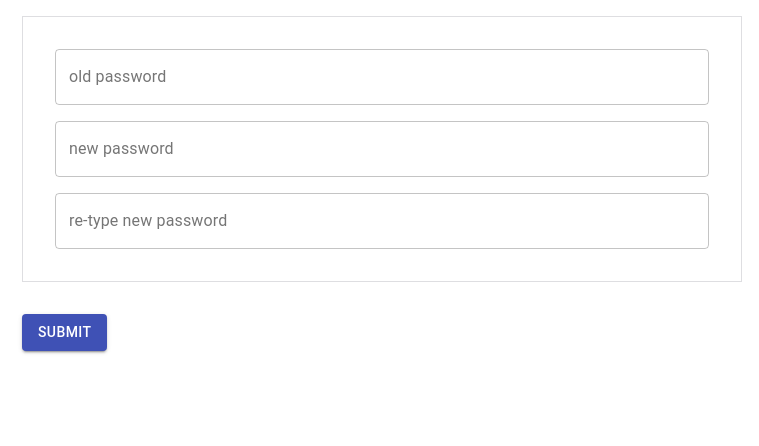
Test: Form › shows error message when old password is not correct
Type "12345" into the password field labelled "old password". click: (382, 77)
box: [55,49,709,105]
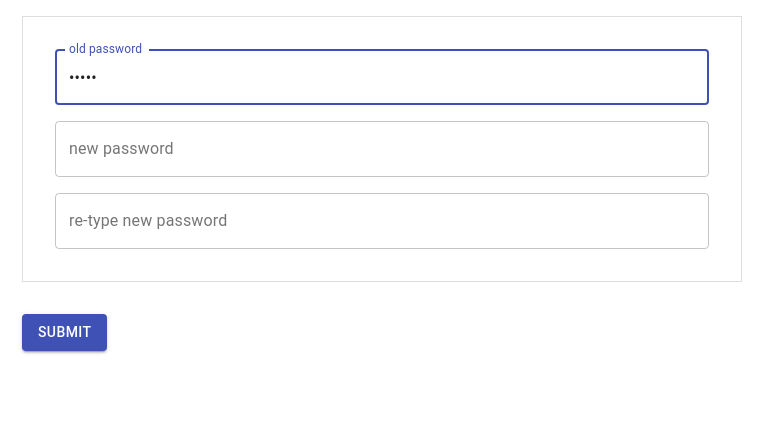
Click the button with aria-label "submit new password". click: (65, 332)
box: [22,314,107,350]
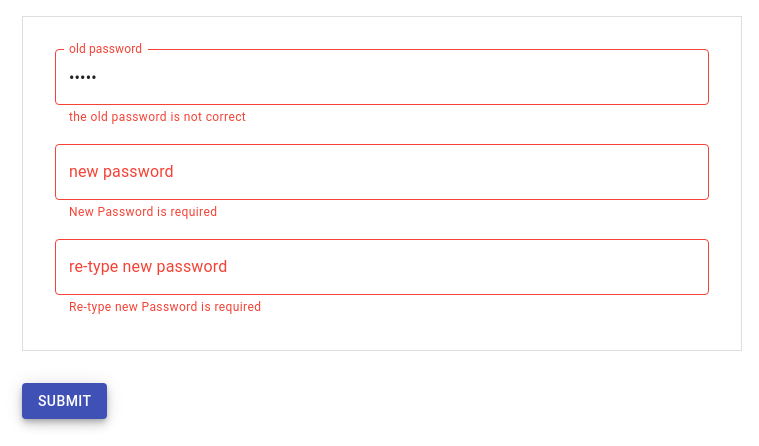
Check: the text "the old password is not correct" is shown, box [69,110,246,124]
